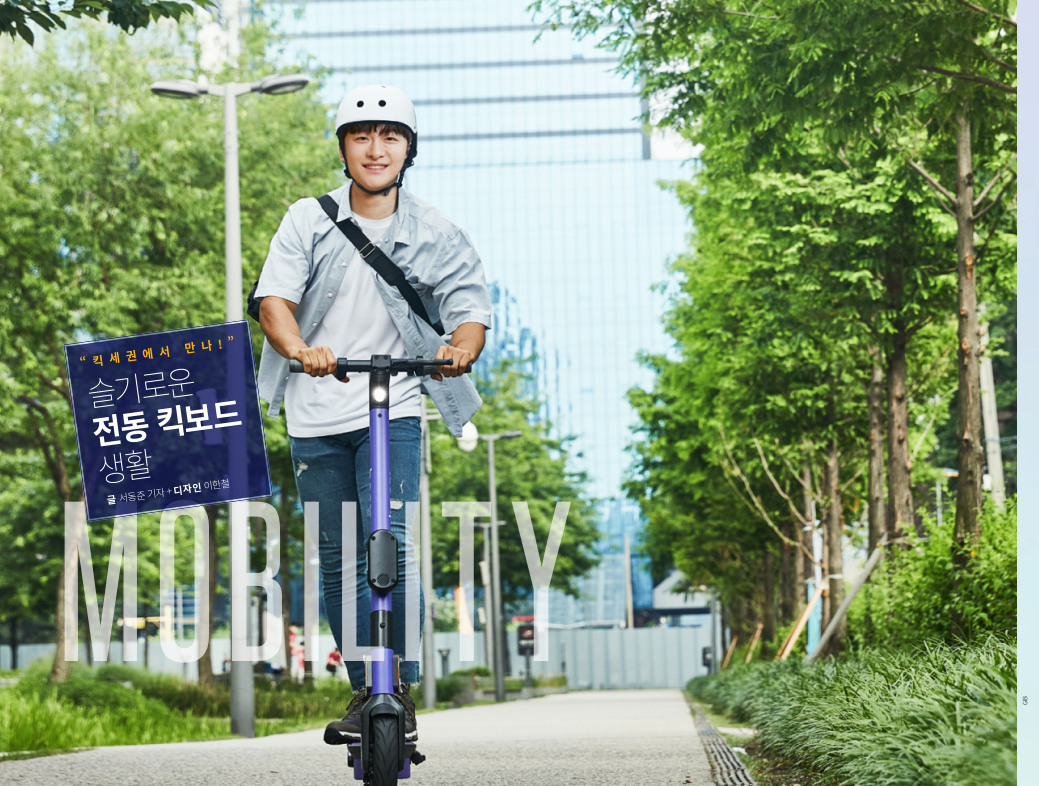scooter: (288, 354, 473, 786)
with helmet: (332, 80, 421, 198)
